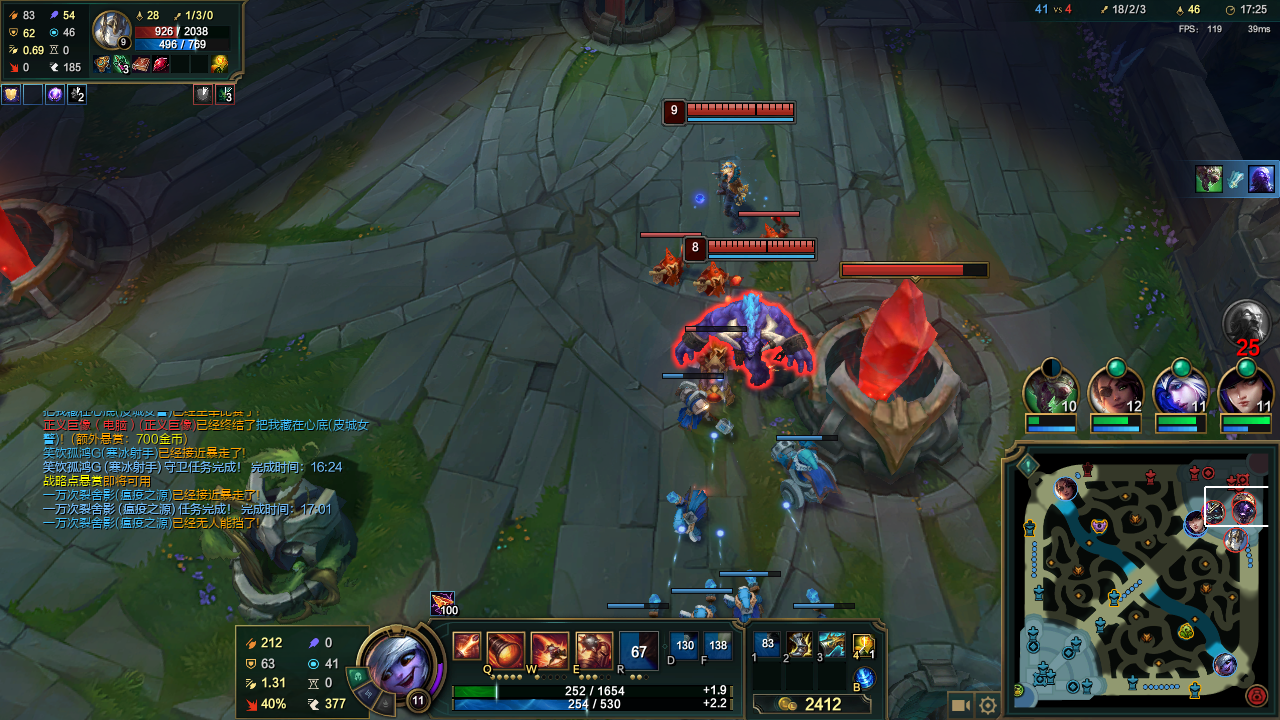DFSJ: (814, 291, 970, 473)
DFXB: (696, 353, 741, 406), (688, 258, 748, 296), (647, 244, 689, 296), (759, 222, 790, 238)
DFYX: (693, 235, 814, 255), (682, 106, 792, 117)
WFXB: (767, 441, 841, 514), (664, 381, 716, 430), (724, 573, 768, 617)
